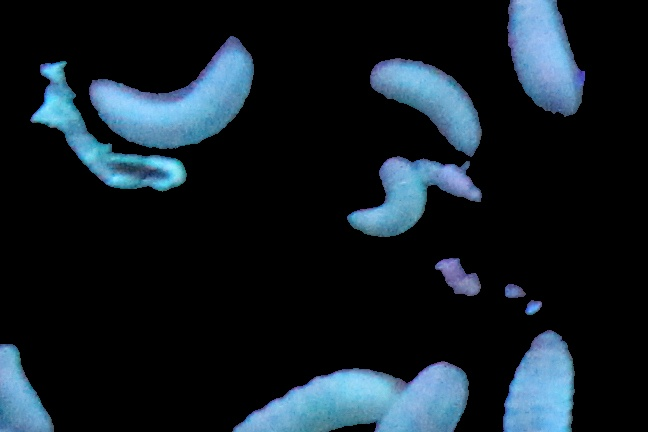larvae: (92, 39, 250, 149), (229, 368, 408, 432), (370, 57, 474, 151), (511, 1, 584, 118), (499, 329, 580, 432), (377, 353, 471, 432), (344, 157, 428, 234), (1, 339, 56, 432)
